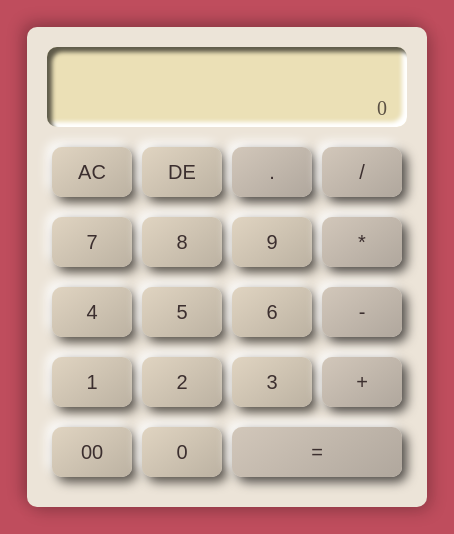
Tests in Calculator component › Should change the content from the display
Step 1. Click the button "9" → (272,242), box [232,217,312,267]
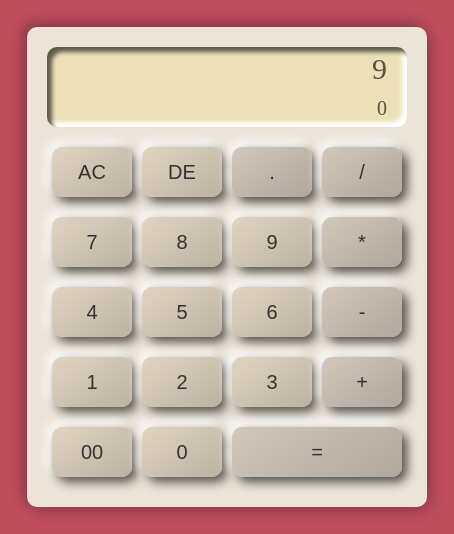
Result: the text with test id "test-display" reads "9" at [372,52,387,85]
